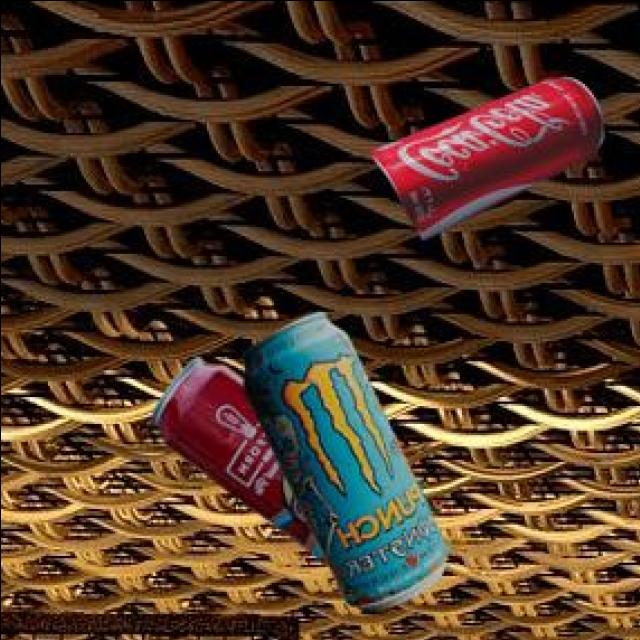logam: (245, 308, 451, 608), (376, 73, 605, 236), (153, 352, 330, 561)
